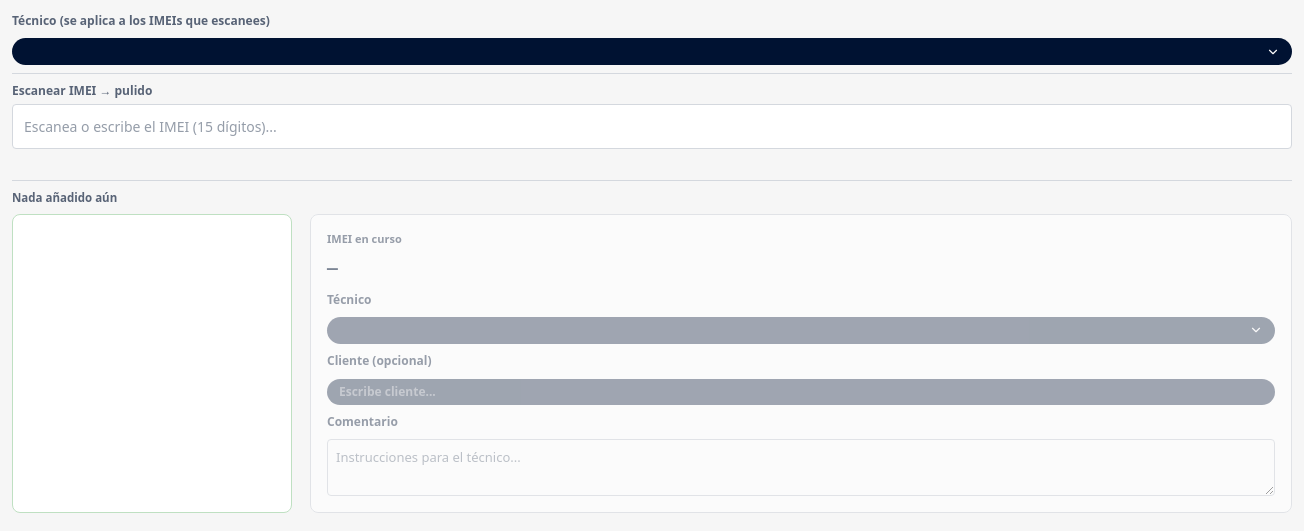
Test case: PanelPulido › repetido: mensaje
Type "111111111111111" into the field with placeholder "Escanea o escribe el IMEI (15 dígitos)..." at coordinates (652, 126), box x1=12 y1=104 x2=1292 y2=149
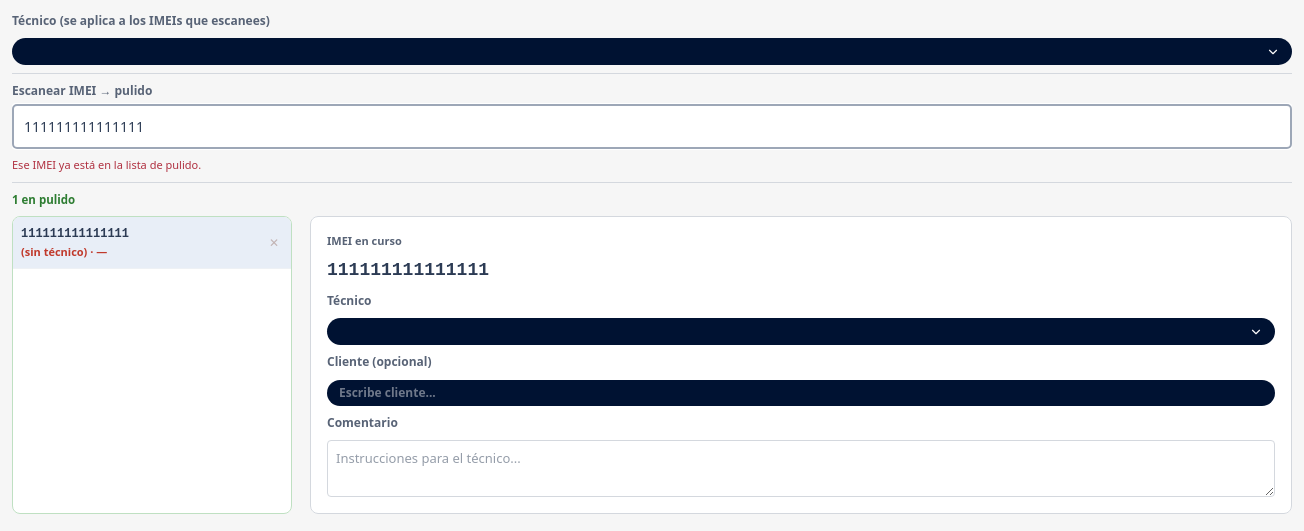
Result: the text "Ese IMEI ya está en la lista de pulido." is shown at x1=12 y1=157 x2=201 y2=172
